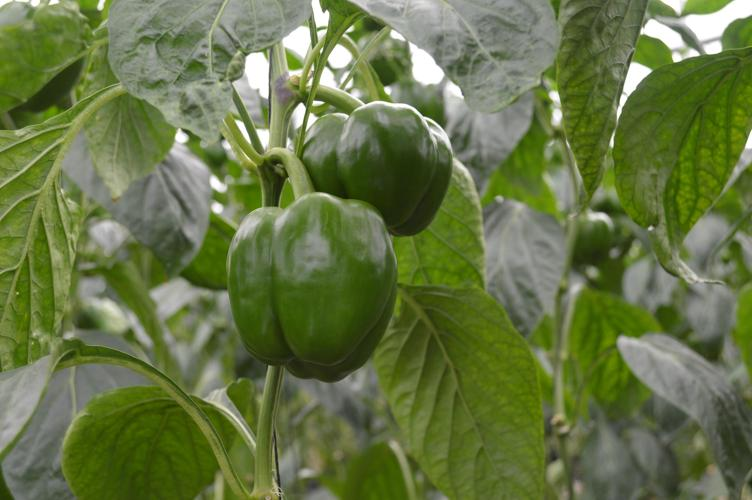BellPepper: (230, 195, 405, 388), (291, 98, 448, 236), (561, 195, 623, 276)
